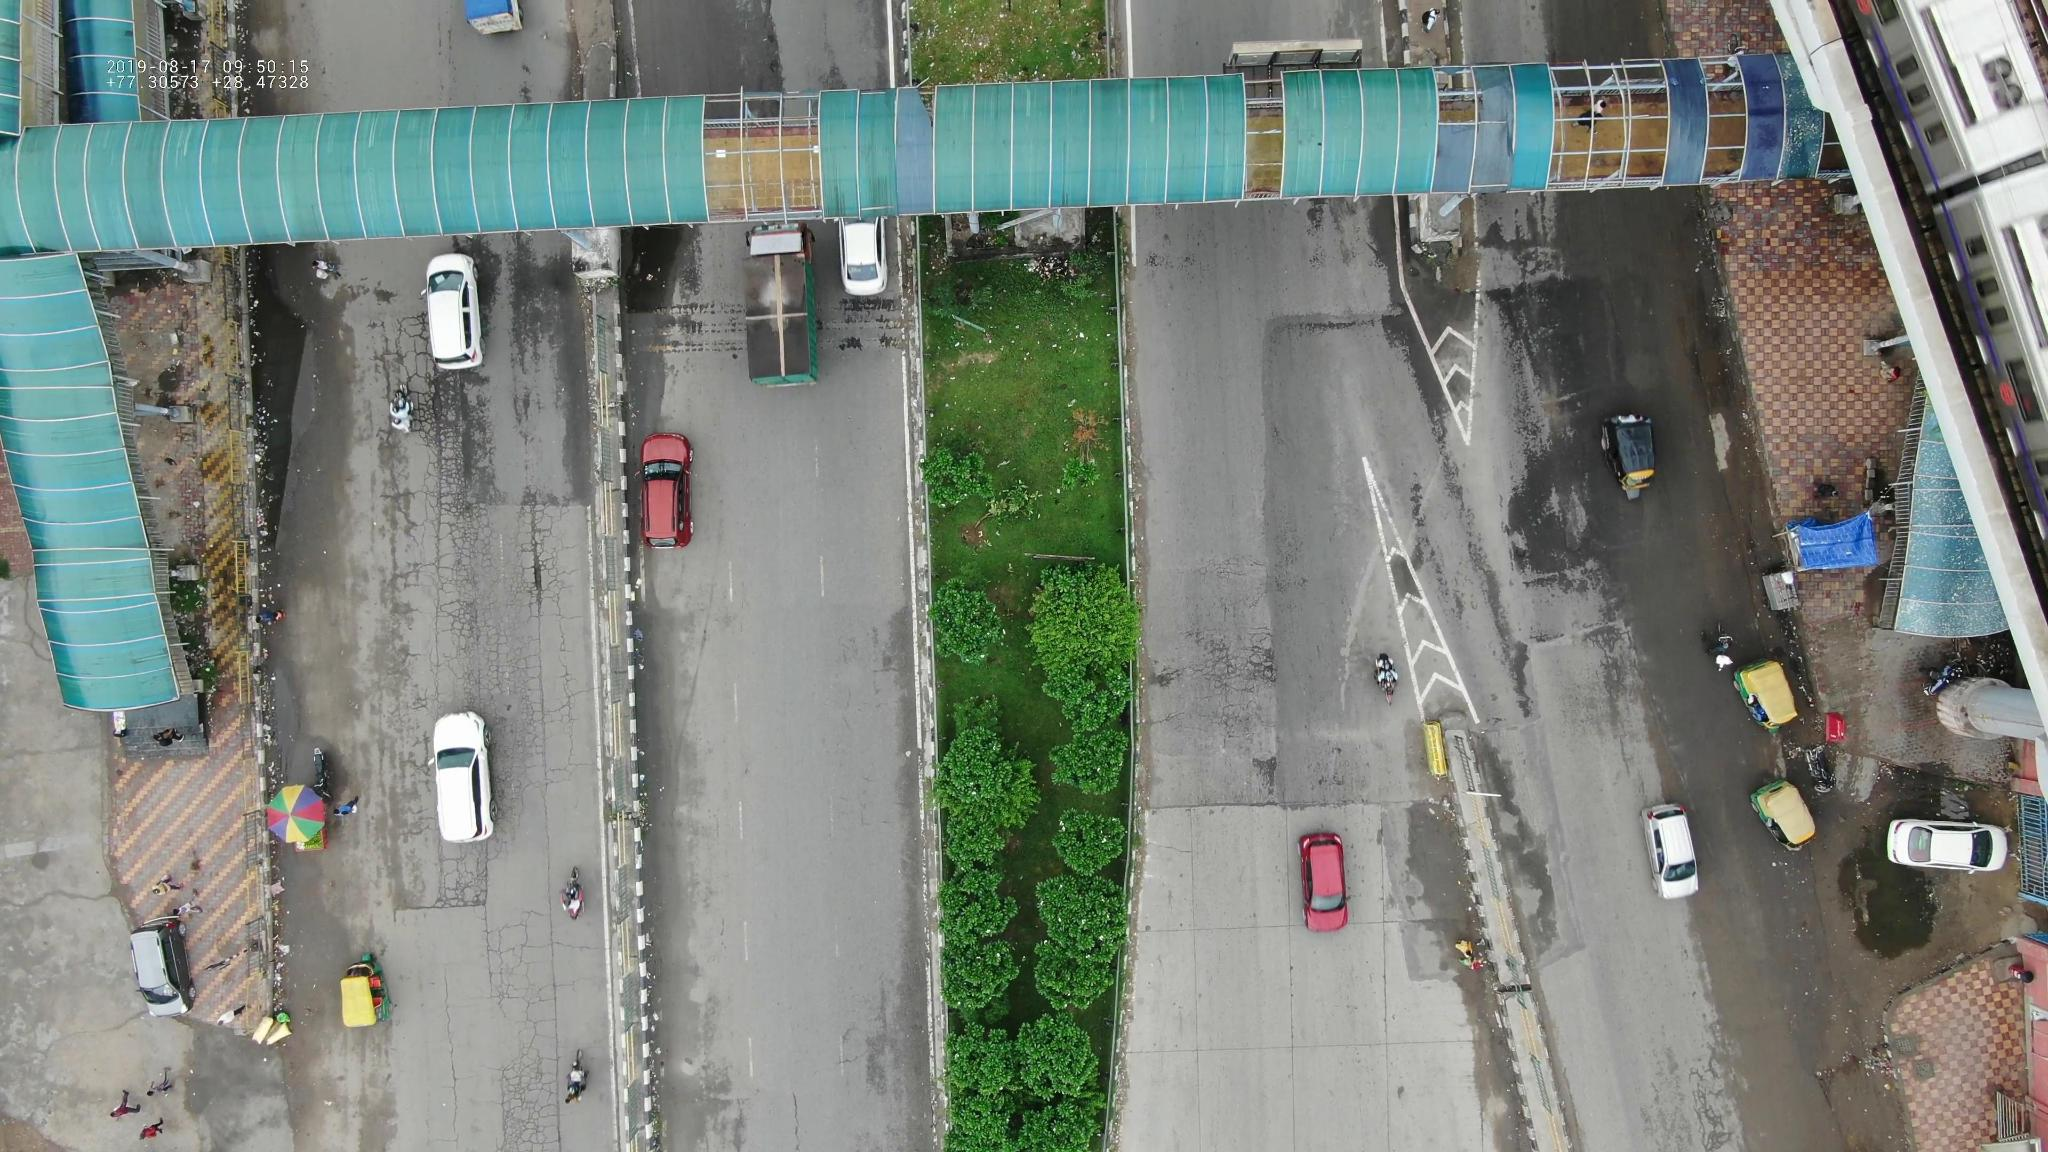Cracks: (338, 408, 580, 700), (433, 919, 560, 1146)
Waterlogging: (250, 295, 300, 544)
